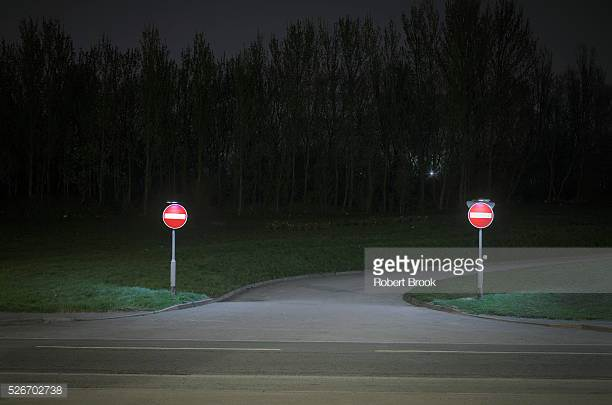No_entry: (467, 202, 494, 229), (162, 203, 188, 229)
